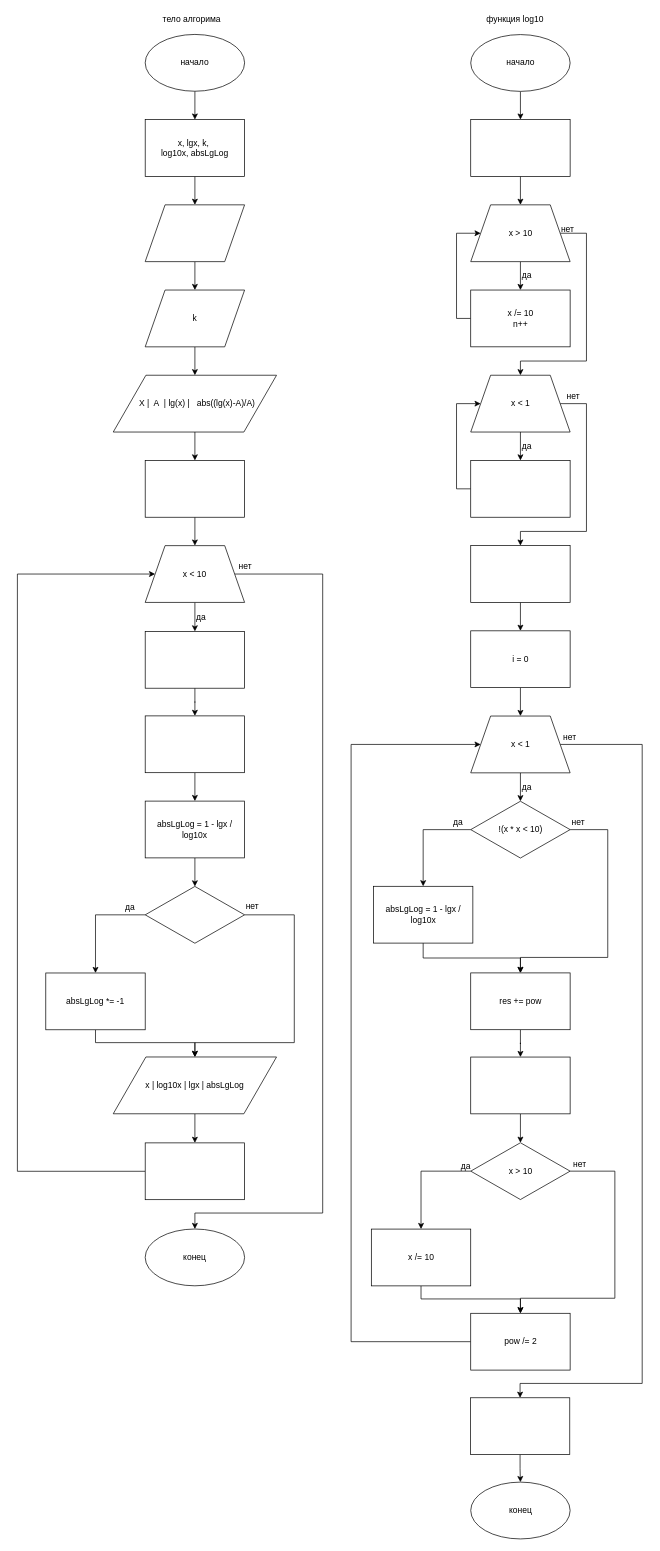
The diagram is 660 pixels wide and 1551 high, and some of its shapes have lost their labels. The box of each missing label's shape, as (x1, y1, x2, y2) in pixels:
absLgLog < 0: (144, 886, 245, 943)
Input k :: (144, 204, 245, 262)
lgx = log(x) / log(10): (144, 631, 245, 688)
log10x = log10(x, k): (144, 715, 245, 773)
res = 0 pow = 0.5 n = 0: (470, 119, 570, 176)
res = n: (470, 545, 570, 602)
return res: (470, 1397, 570, 1455)
x *= 10 n--: (470, 460, 570, 517)
x += 0.1: (144, 1142, 245, 1200)
x = 0.1: (144, 460, 245, 517)
x = x * x: (470, 1056, 570, 1114)
